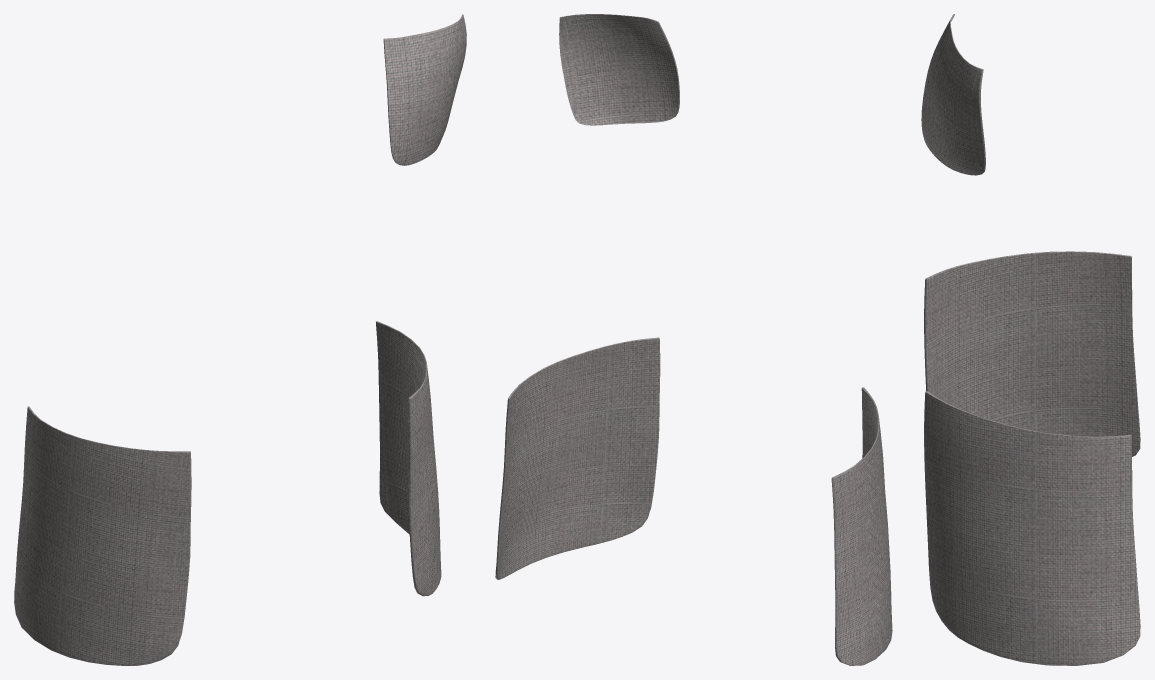
Rendered from Patch_Pockets.glb.
3 views of the same model, side by side, from view 1: azimuth 30°, elevation 25°; view 2: azimuth 150°, elevation 25°; view 3: azimuth 270°, elevation 25° (orthographic). The views are drawn at different scales.
Visible parts, largest first — view 1: Patch_Pockets; view 2: Patch_Pockets; view 3: Patch_Pockets.
Boxes of the visible parts, bbox=[...] form: Patch_Pockets: bbox=[14, 14, 466, 665]; Patch_Pockets: bbox=[495, 14, 892, 665]; Patch_Pockets: bbox=[921, 14, 1140, 665].
Bounding box in the file's own units: 0.0486 × 0.0684 × 0.0225.
Materials: 1 (1 with a texture image).
